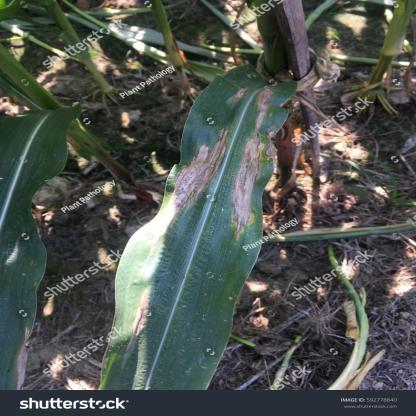Corn leaf blight: (95, 74, 304, 384)
